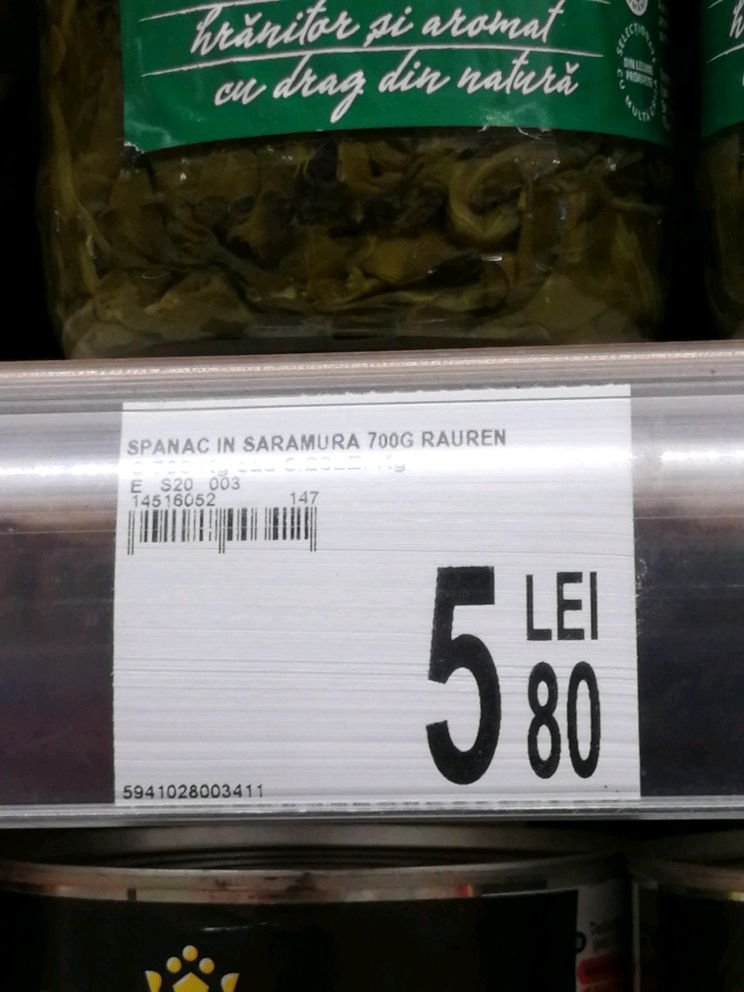price_bani: (516, 653, 613, 795)
price_lei: (419, 552, 512, 798)
price_tag: (107, 381, 648, 808)
product_id: (118, 780, 272, 804)
product_name: (120, 422, 518, 468)
